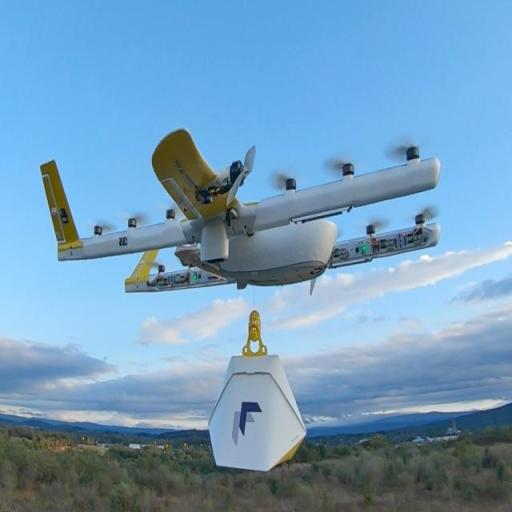uav: (34, 107, 457, 343)
